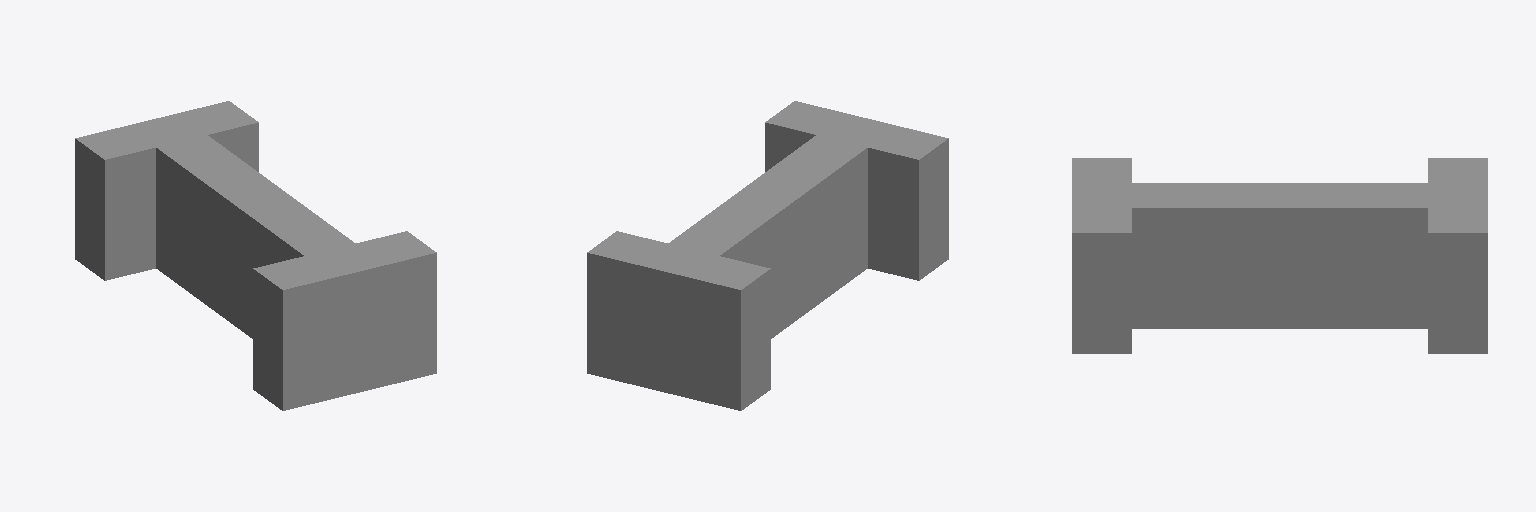
The picture shows the model from 3 angles: view 1: azimuth 30°, elevation 25°; view 2: azimuth 150°, elevation 25°; view 3: azimuth 270°, elevation 25°; orthographic projection.
Parts seen in each view (by area): view 1: I_CUABC.009; view 2: I_CUABC.009; view 3: I_CUABC.009.
Boxes of the visible parts, x1=… form: I_CUABC.009: x1=75, y1=101, x2=436, y2=410; I_CUABC.009: x1=587, y1=101, x2=948, y2=410; I_CUABC.009: x1=1072, y1=158, x2=1487, y2=353.
Size of the model in its own units: 0.3333 by 0.25 by 0.7778.